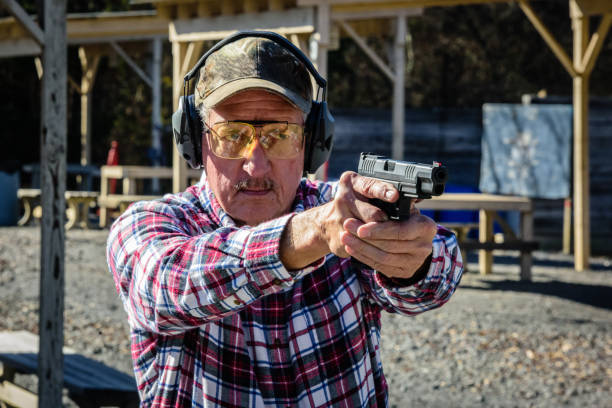gun: (356, 152, 445, 224)
